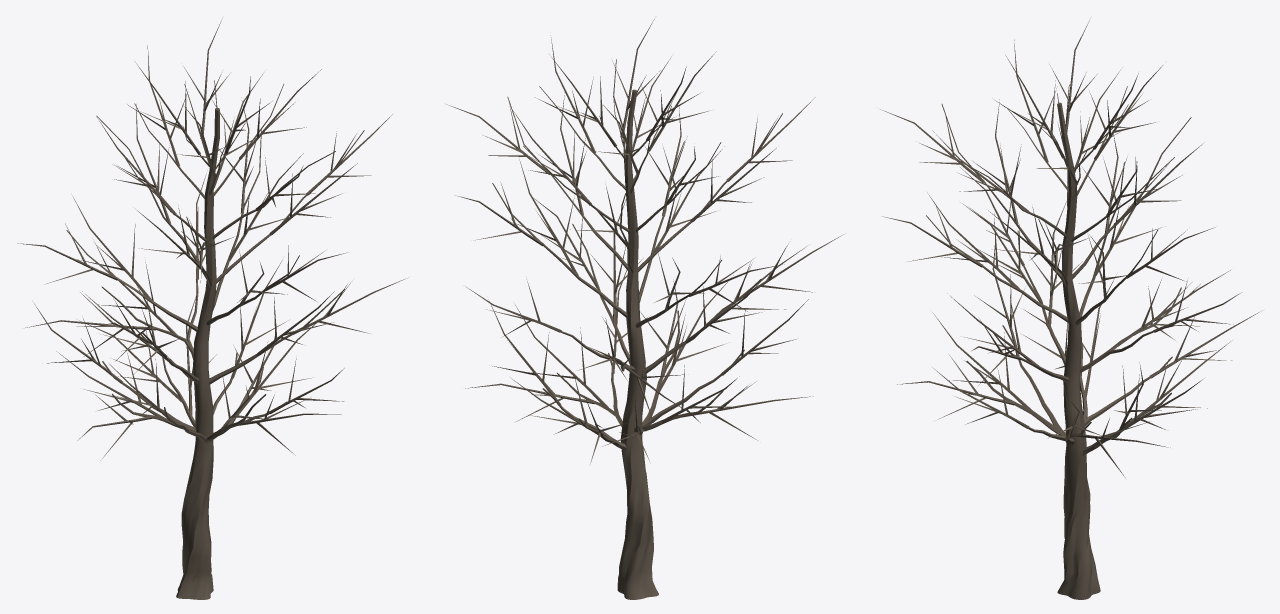
File: hetre_mort.glb
3 renders of one model, left to right at view 1: azimuth 30°, elevation 25°; view 2: azimuth 150°, elevation 25°; view 3: azimuth 270°, elevation 25°, orthographic.
Visible parts, largest first — view 1: Tree_0; view 2: Tree_0; view 3: Tree_0.
Boxes of the visible parts, x1,y1,x2,y2 form: Tree_0: (17, 18, 408, 599); Tree_0: (446, 19, 843, 599); Tree_0: (880, 20, 1260, 599).
Size of the model in its own units: 24.77 by 35.4 by 22.74.
